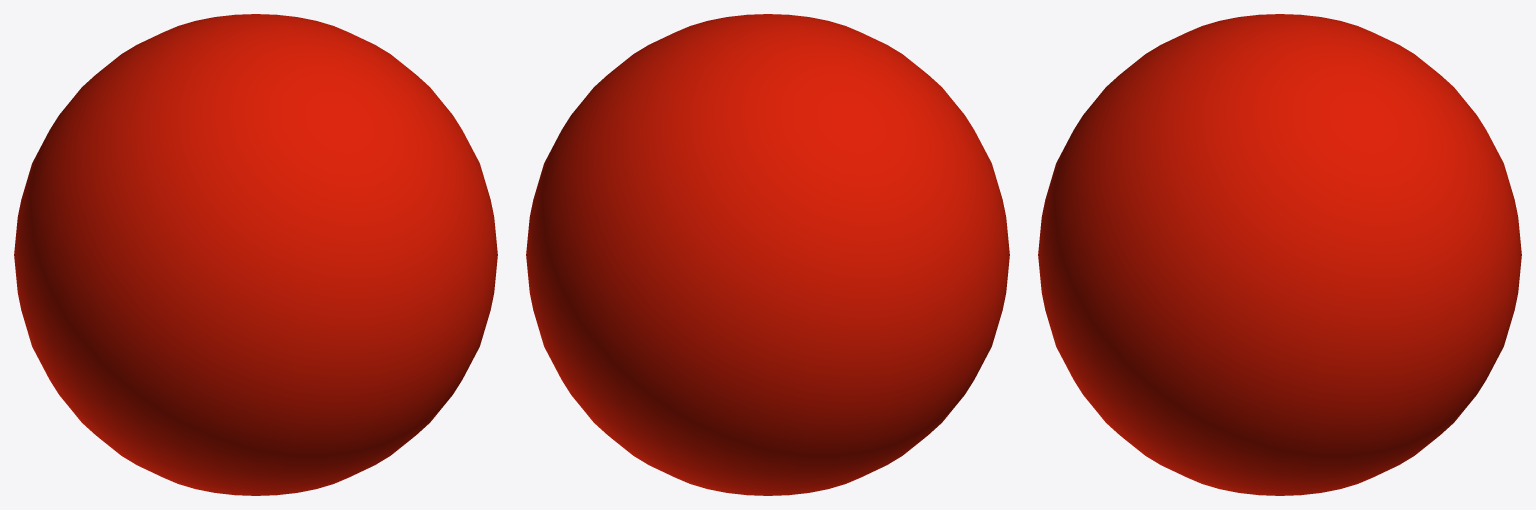
The model's file is qiu.FBX.
3 views of the same model, side by side, from view 1: azimuth 30°, elevation 25°; view 2: azimuth 150°, elevation 25°; view 3: azimuth 270°, elevation 25° (orthographic).
Visible parts, largest first — view 1: Sphere002; view 2: Sphere002; view 3: Sphere002.
Boxes of the visible parts, x1,y1,x2,y2 form: Sphere002: [14, 14, 497, 495]; Sphere002: [526, 14, 1009, 495]; Sphere002: [1038, 14, 1521, 495].
Bounding box in the file's own units: 10.74 × 10.74 × 10.74.
